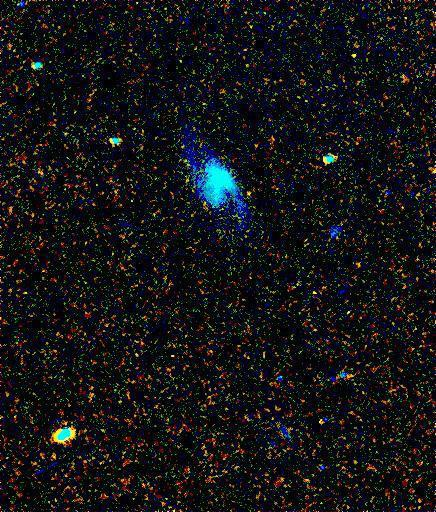star: (341, 41, 371, 71)
